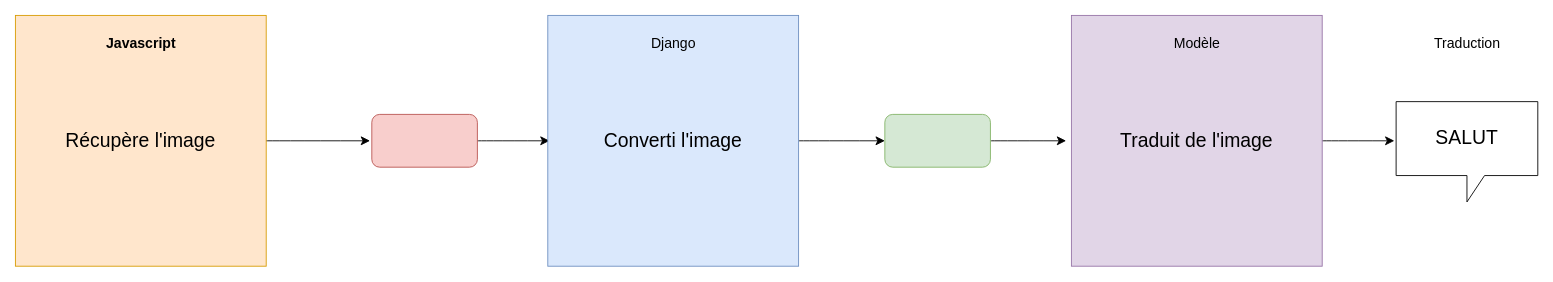
Some shapes in this 1553 by 282 pixel diagram are drawn without their labels. The centre of each missing label's shape, as x and y in pixels:
"IMAGE" goes at pixel 424 140.
"IMAGE CONVERTIE" goes at pixel 937 140.
